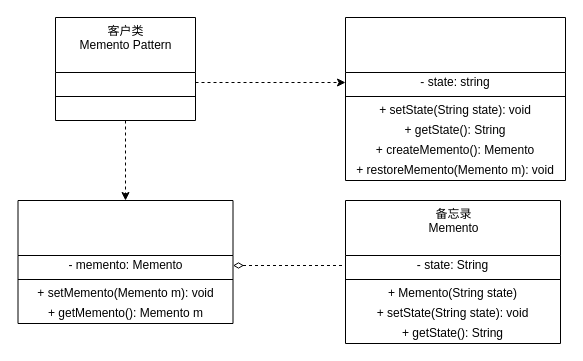
The diagram is 583 pixels wide and 361 high, and some of its shapes have lost their labels. Each missing label, with the box of its shape:
发起人 Originator: (344, 16, 566, 180)
管理者 Caretaker: (17, 200, 233, 324)
